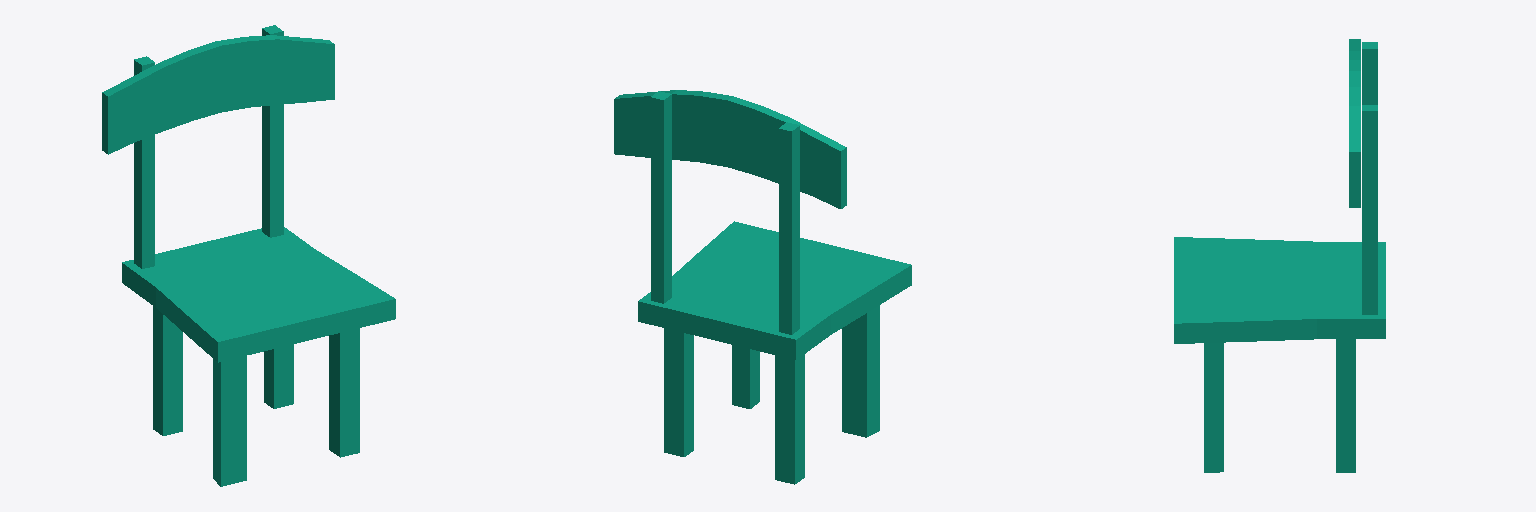
File: Silla_02.obj
3 views of the same model, side by side, from view 1: azimuth 30°, elevation 25°; view 2: azimuth 150°, elevation 25°; view 3: azimuth 270°, elevation 25° (orthographic).
Visible parts, largest first — view 1: Silla_02; view 2: Silla_02; view 3: Silla_02.
Part boxes in pixels (x1,y1,x2,y2): Silla_02: (102,25,395,486); Silla_02: (614,90,911,484); Silla_02: (1174,39,1385,472).
Size of the model in its own units: 24.02 by 37.5 by 19.45.